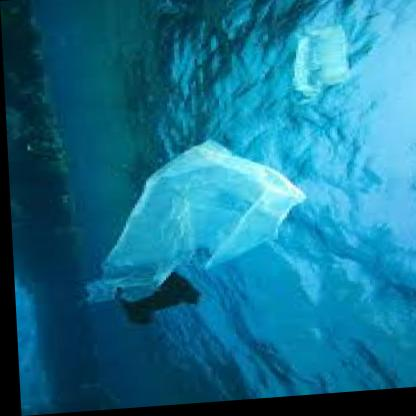Plastic: (62, 138, 310, 296), (250, 17, 369, 114)
